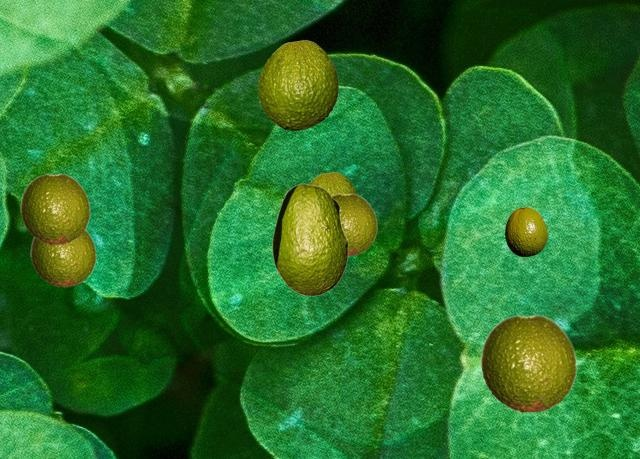avocado: (480, 314, 577, 412), (272, 183, 347, 295), (258, 40, 337, 129), (20, 173, 90, 244), (30, 230, 96, 286), (332, 193, 377, 255), (505, 207, 546, 255), (308, 172, 358, 194)
